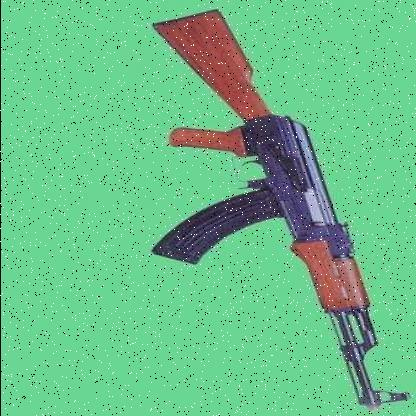rifle: (115, 8, 410, 410)
